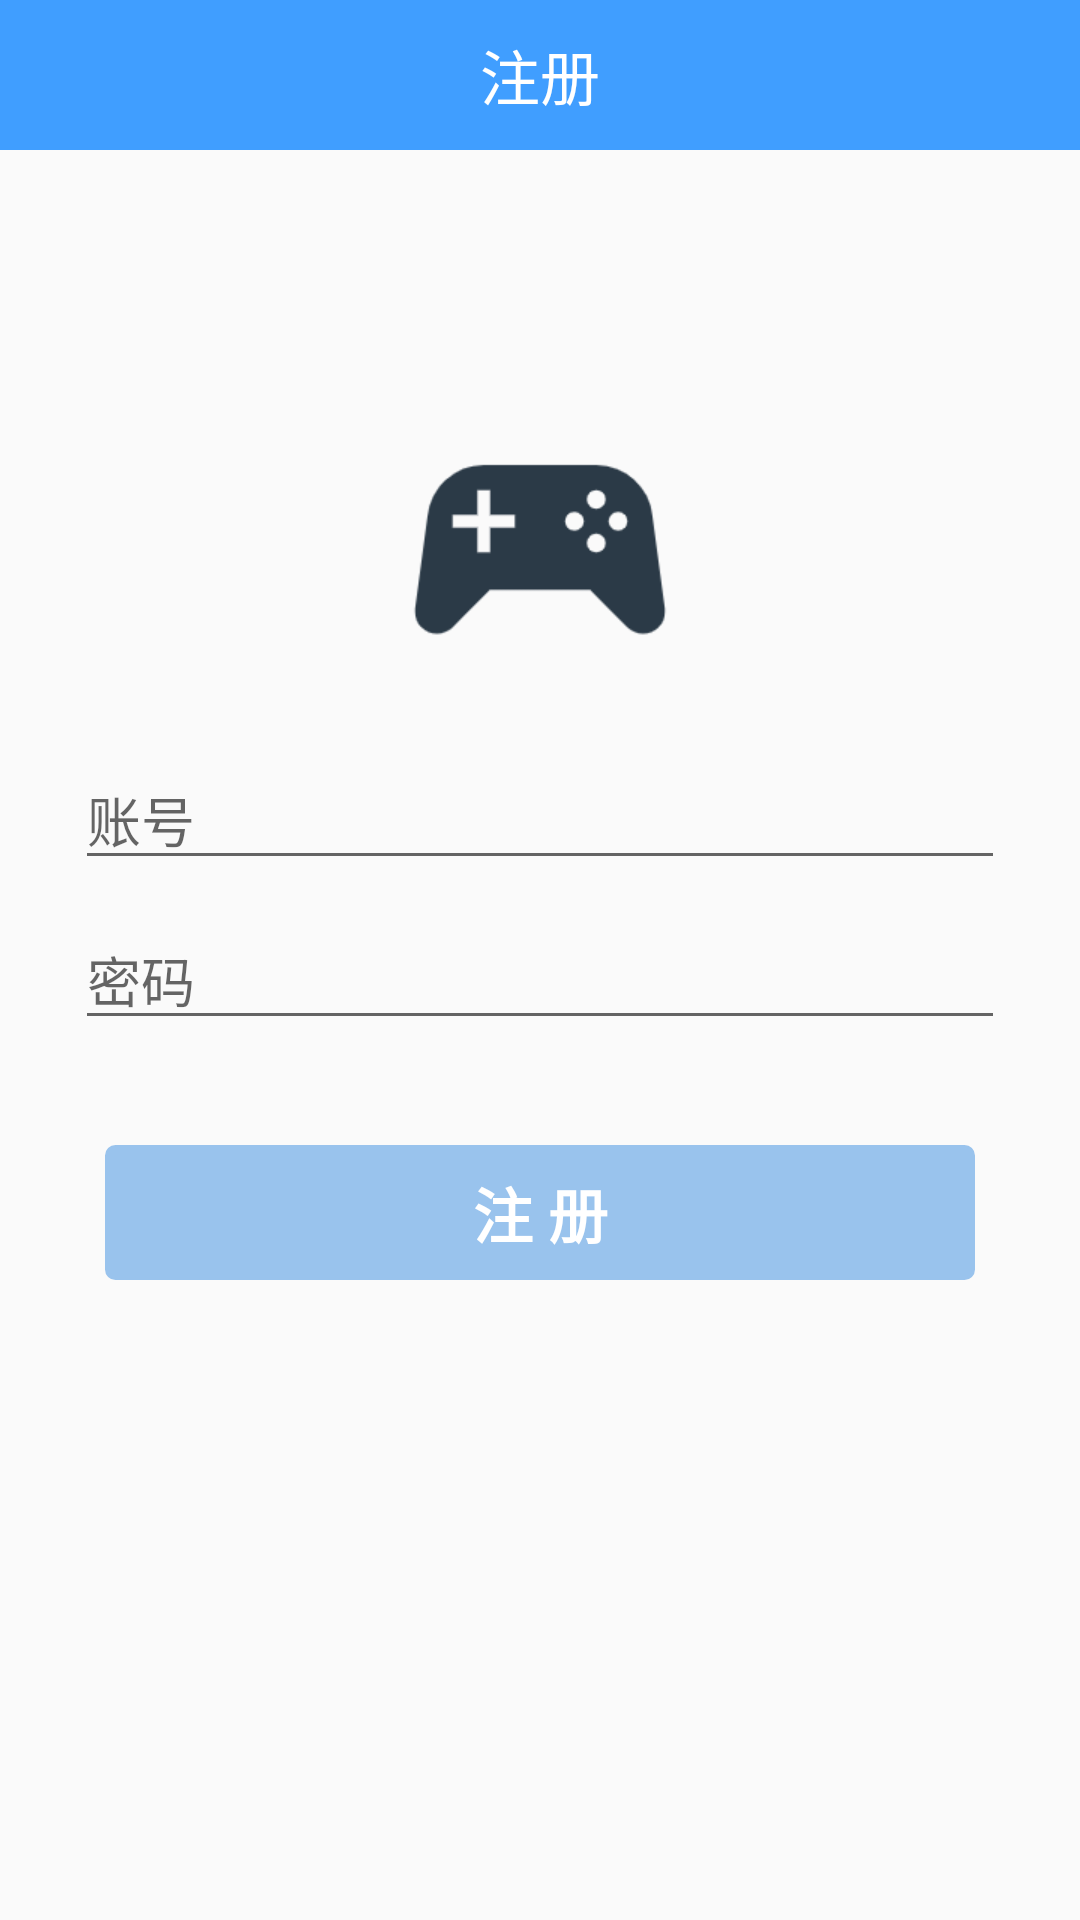

Where to tap for icons on this 1080px×1920px app screen, as (x=x, y=y):
controller: (x=540, y=549)
